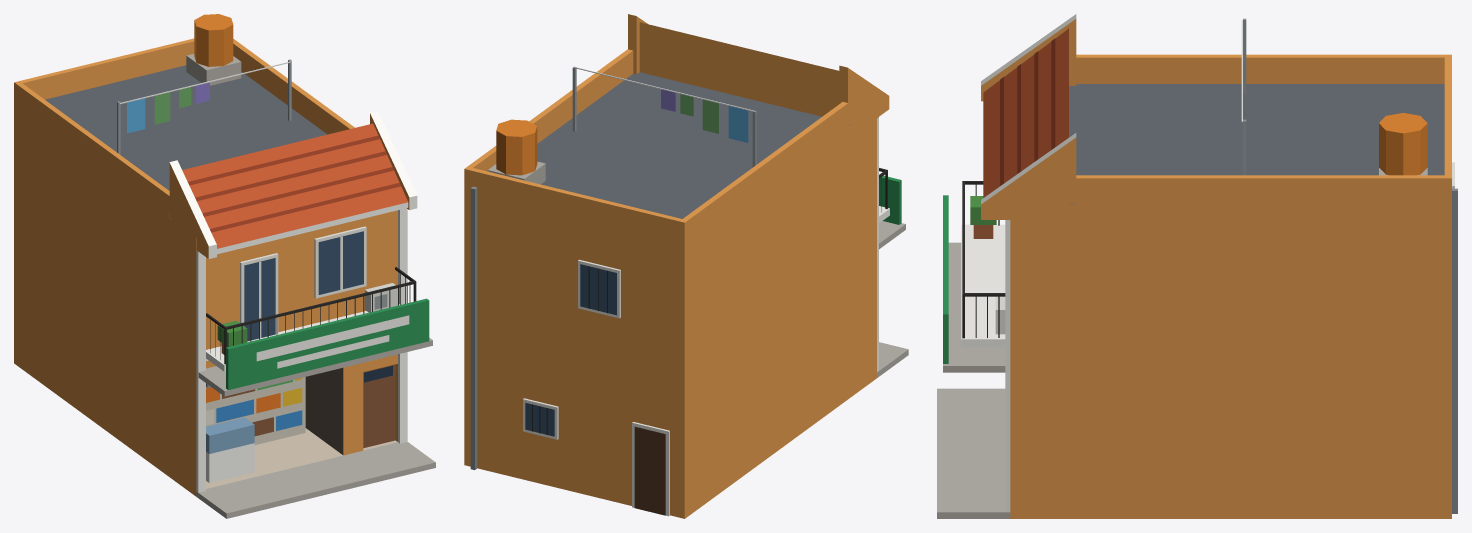
Rendered from ruko_07.glb.
The picture shows the model from 3 angles, left to right: view 1: azimuth 30°, elevation 25°; view 2: azimuth 150°, elevation 25°; view 3: azimuth 270°, elevation 25°; orthographic projection. The views are drawn at different scales.
Visible parts, largest first — view 1: ruko_07; view 2: ruko_07; view 3: ruko_07.
Part boxes in pixels (x1=…): ruko_07: x1=14, y1=14, x2=435, y2=518; ruko_07: x1=464, y1=14, x2=908, y2=518; ruko_07: x1=937, y1=14, x2=1457, y2=518.
Bounding box in the file's own units: 6 × 8.75 × 10.67.
